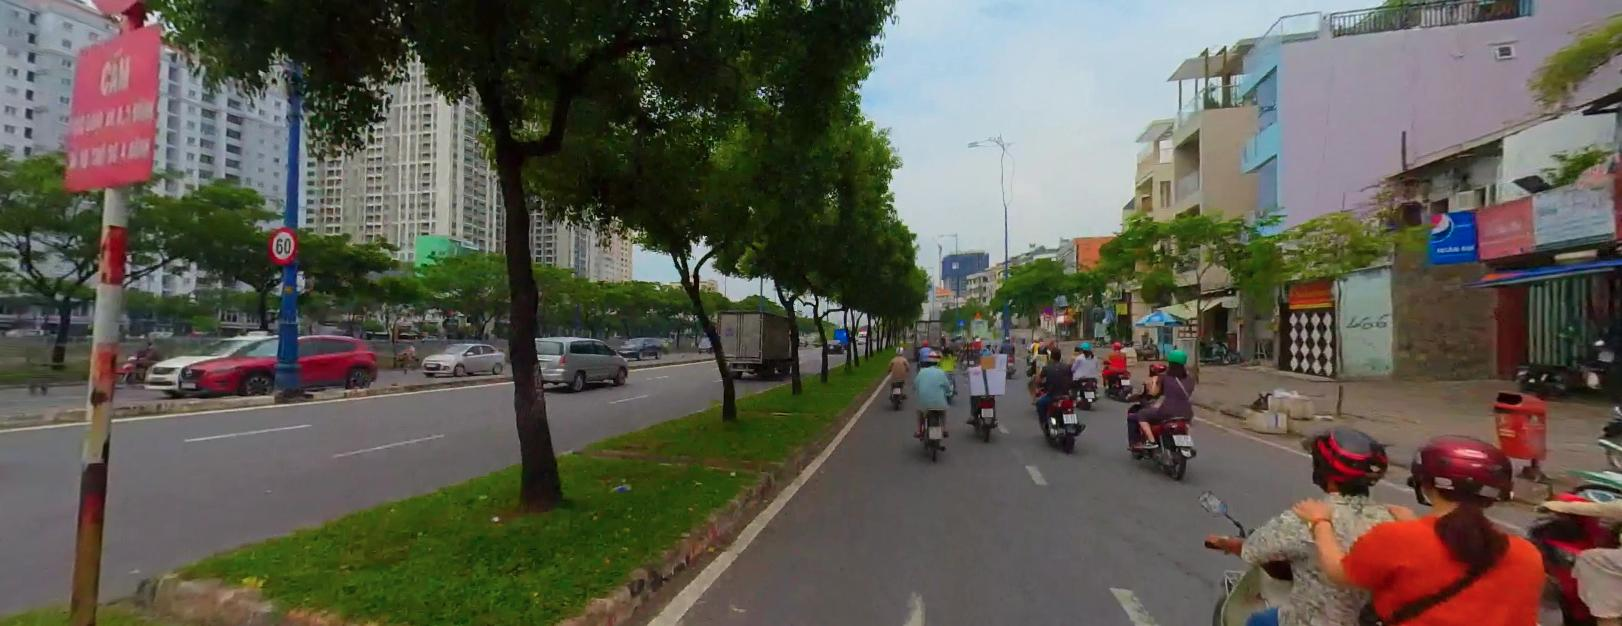Cam dung va do: (1041, 302, 1051, 312)
Gioi han toc do: (268, 225, 296, 262)
Nguy hiem: (972, 310, 981, 318)
